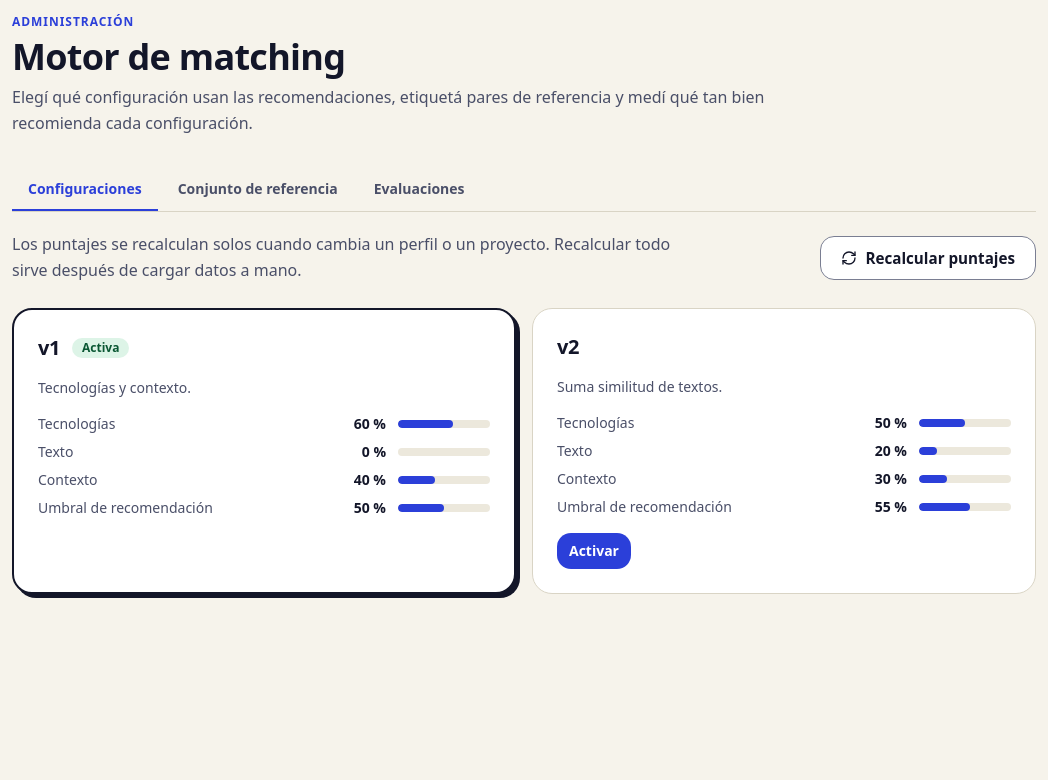
Test case: MotorAdminPage › Configuraciones › recalcula todos los puntajes con la configuración activa y muestra el resultado
expect the heading "v1" is shown: met, box [38,334,60,362]
Click the button "Recalcular puntajes" at (928, 258), box [820,236,1036,280]
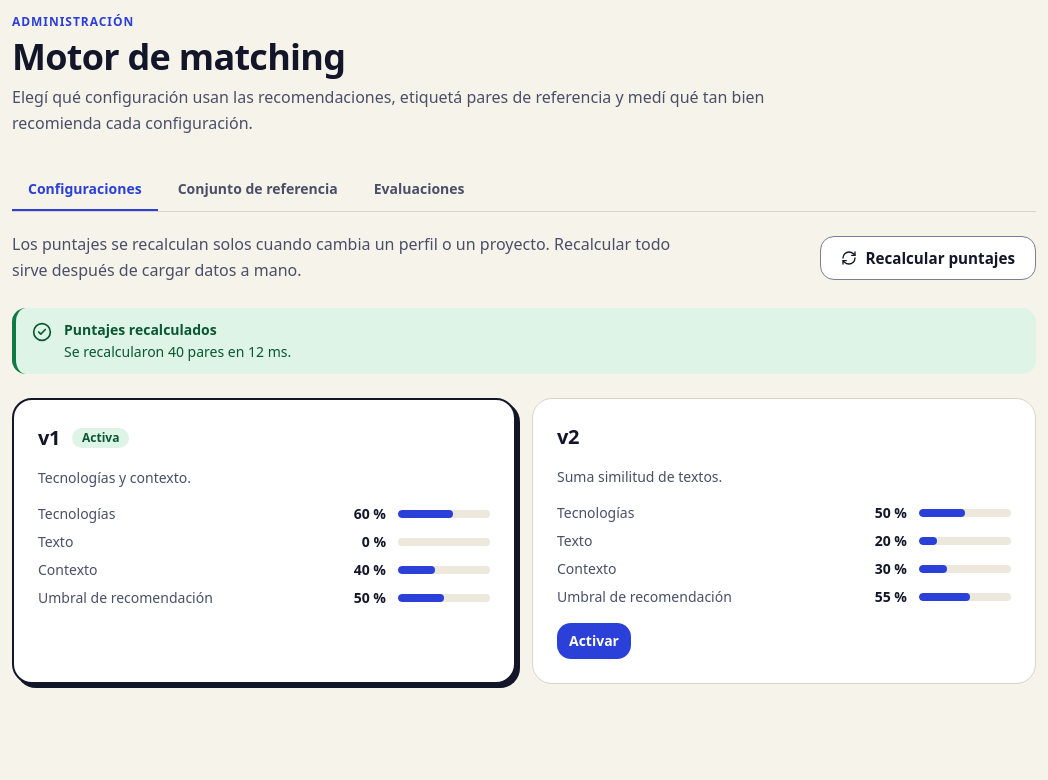
expect the text "Se recalcularon 40 pares en 12 ms." is shown: met, box [64,342,291,362]
